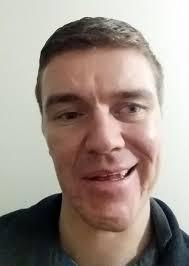strokeEyeWeak: (45, 90, 158, 126)
strokeMouthMid: (75, 160, 147, 192)
